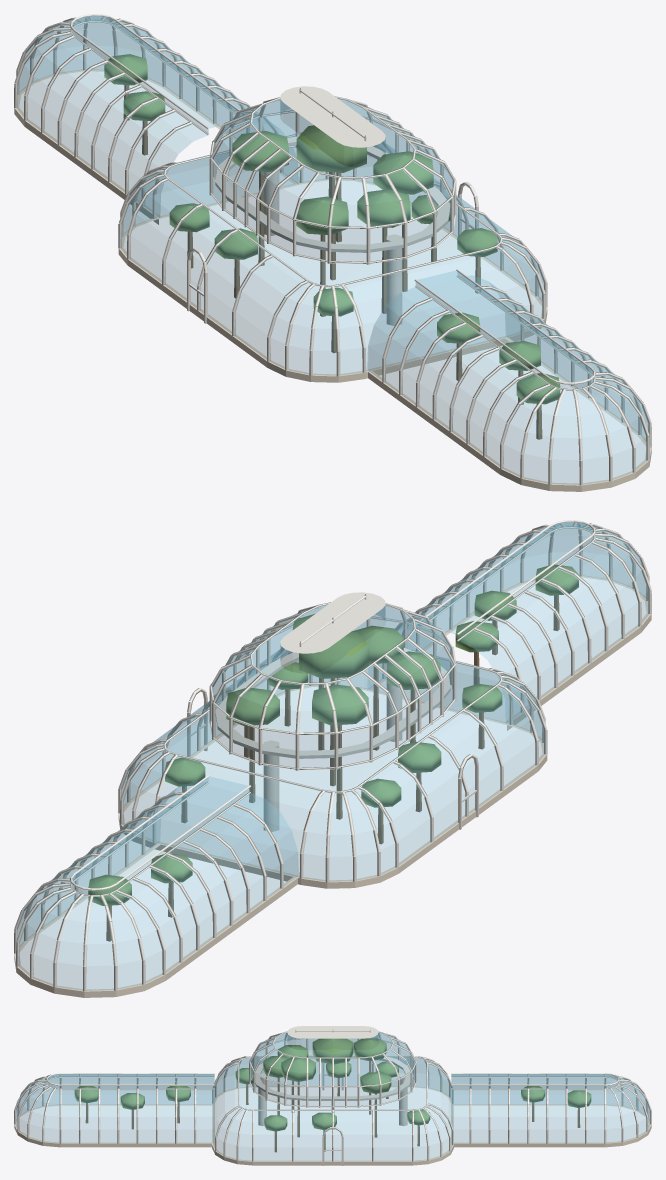
The model's file is london-kew-palm-house.glb.
The picture shows the model from 3 angles, top to bottom: view 1: azimuth 30°, elevation 25°; view 2: azimuth 150°, elevation 25°; view 3: azimuth 270°, elevation 25°; orthographic projection. The views are drawn at different scales.
Visible parts, largest first — view 1: Palm House, Kew; view 2: Palm House, Kew; view 3: Palm House, Kew.
Boxes of the visible parts, x1,y1,x2,y2 form: Palm House, Kew: (14,14,651,491); Palm House, Kew: (14,520,651,997); Palm House, Kew: (14,1026,651,1165).
Size of the model in its own units: 31.61 by 19 by 112.
